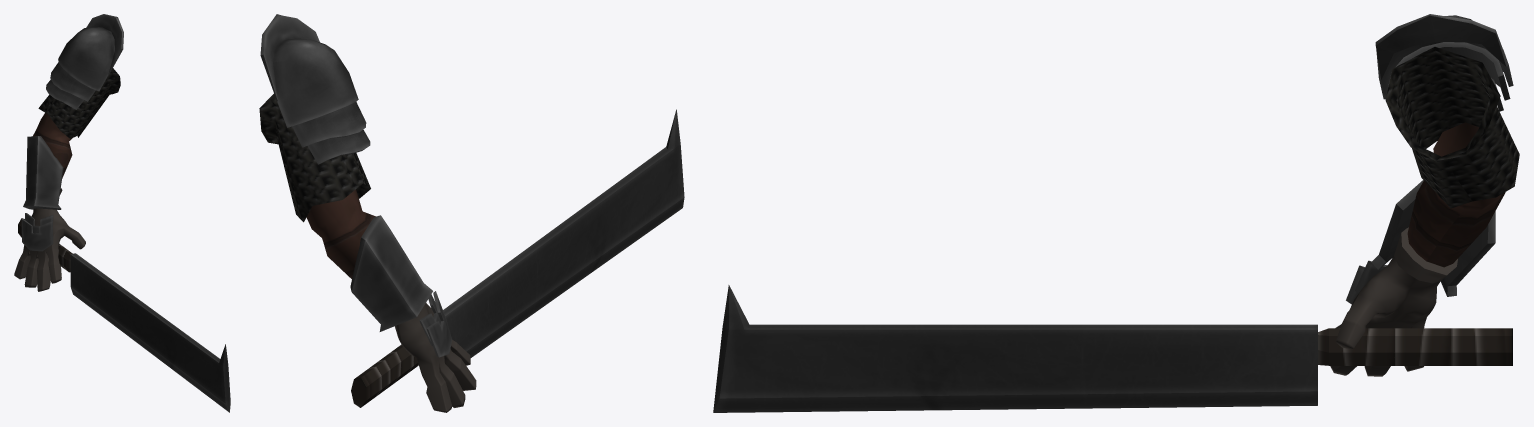
The model's file is urukHaiRArm.obj.
3 views of the same model, side by side, from view 1: azimuth 30°, elevation 25°; view 2: azimuth 150°, elevation 25°; view 3: azimuth 270°, elevation 25° (orthographic). The views are drawn at different scales.
Parts seen in each view (by area): view 1: UrukExportRArm_UrukExport.003; view 2: UrukExportRArm_UrukExport.003; view 3: UrukExportRArm_UrukExport.003.
Part boxes in pixels (bbox=[...]): UrukExportRArm_UrukExport.003: bbox=[14, 14, 230, 412]; UrukExportRArm_UrukExport.003: bbox=[259, 14, 684, 412]; UrukExportRArm_UrukExport.003: bbox=[713, 14, 1519, 412].
Bounding box in the file's own units: 1.11 × 2.41 × 3.77.
1 material, 1 textured.
